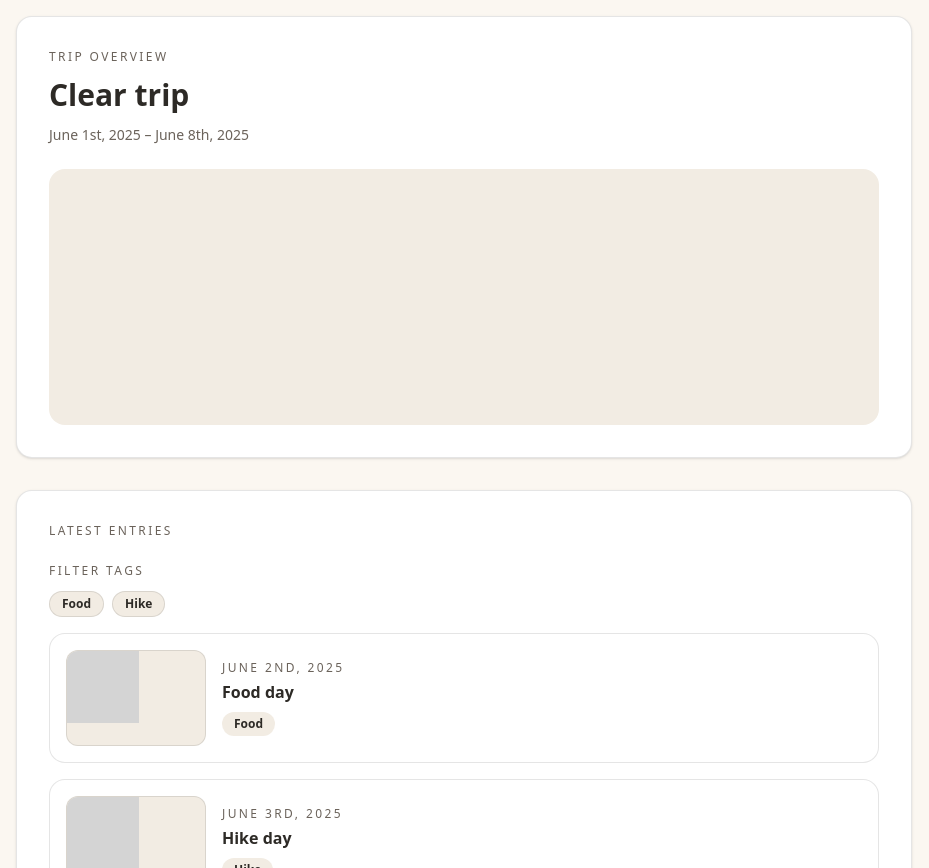
Scenario: TripOverview › shows all entries again after clearing tag filters
Click the button "Food" at (76, 604), box [49,591,104,617]
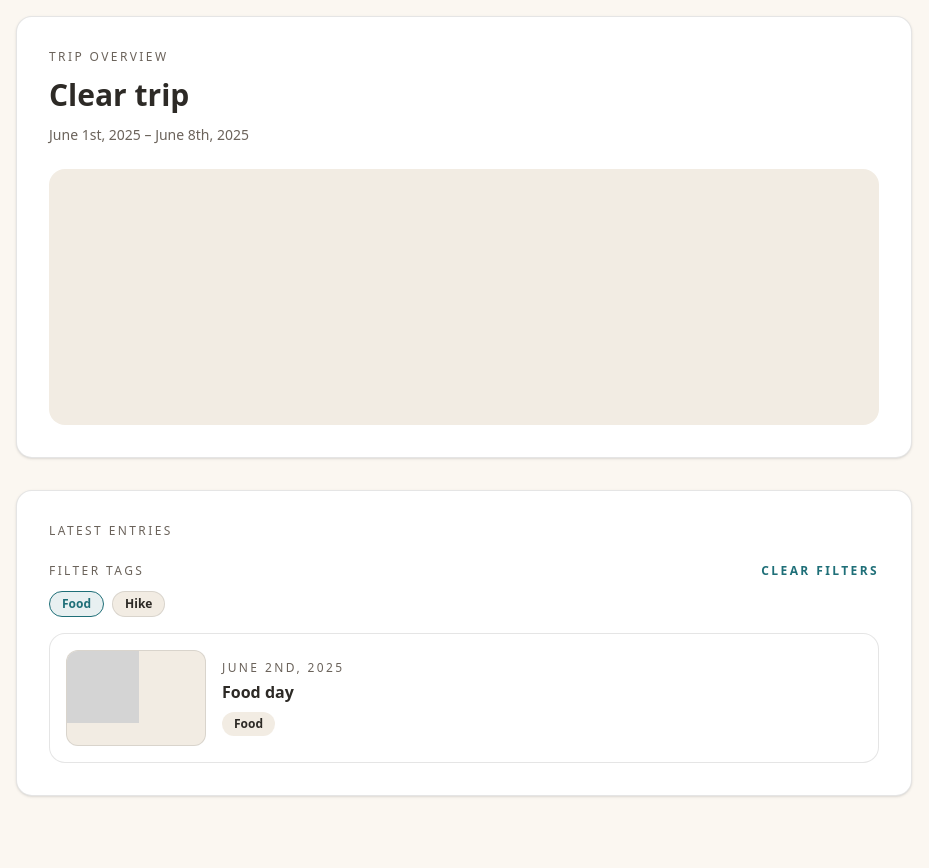
Check: the link "Hike day" is gone
Click the button "Clear filters" at (820, 571), box [761,563,879,579]
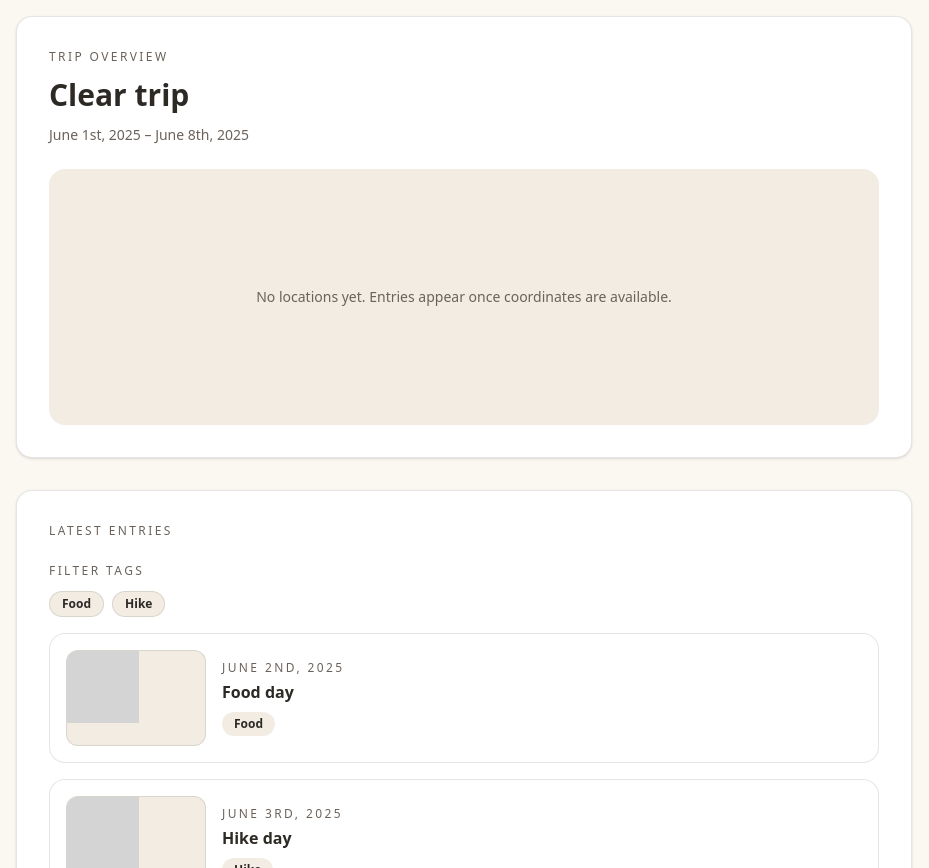
Check: the text "Food day" is shown, box [222,680,294,704]
Check: the text "Hike day" is shown, box [222,826,292,850]
